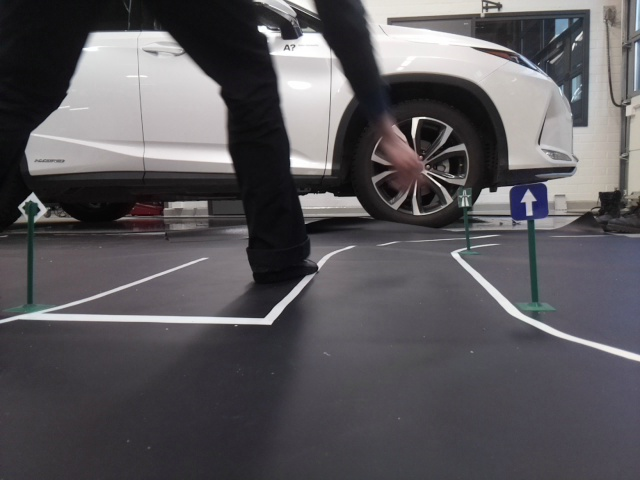HighwayEntrance: (454, 185, 473, 210)
OneWay: (511, 186, 547, 216)
